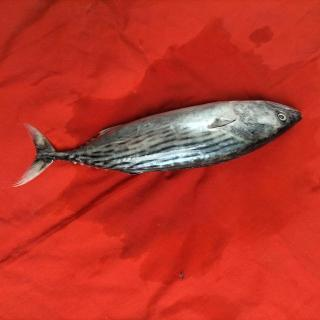Ikan: (16, 90, 312, 194)
